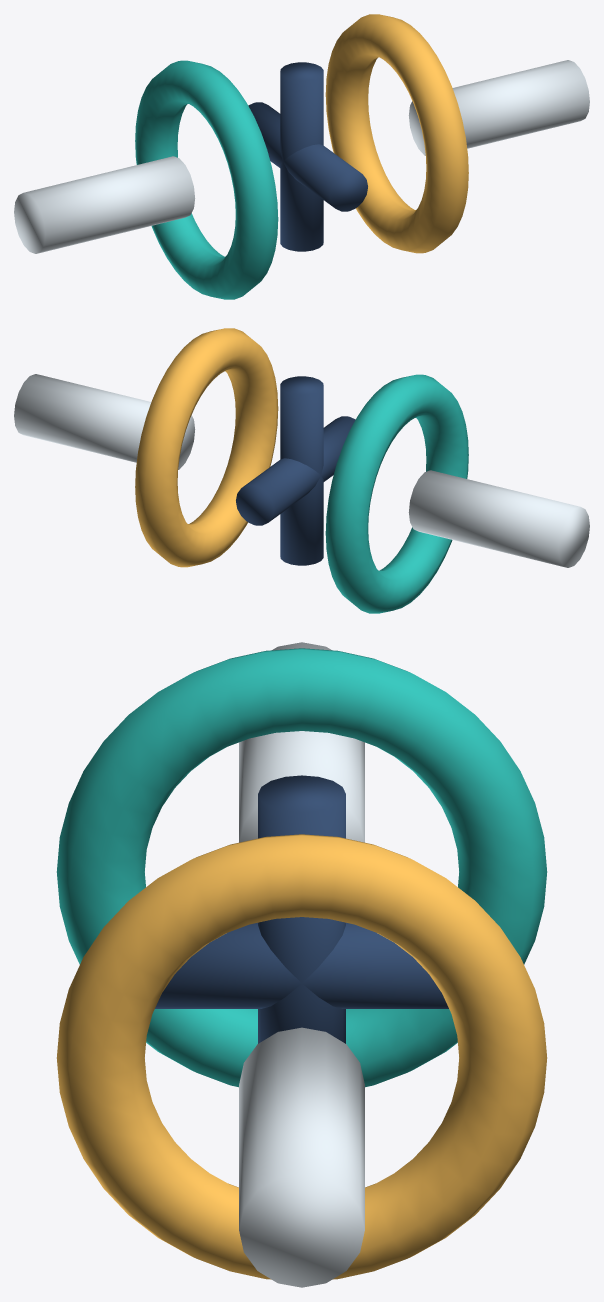
File: universal-joint-lite.glb
3 views of the same model, one above another, from view 1: azimuth 30°, elevation 25°; view 2: azimuth 150°, elevation 25°; view 3: azimuth 270°, elevation 25° (orthographic). The views are drawn at different scales.
Parts seen in each view (by area): view 1: Input; view 2: Input; view 3: Input.
Part boxes in pixels (bbox=[...]): Input: bbox=[14, 14, 589, 299]; Input: bbox=[14, 328, 589, 613]; Input: bbox=[56, 642, 547, 1287].
Size of the model in its own units: 2 by 0.78 by 0.78.
